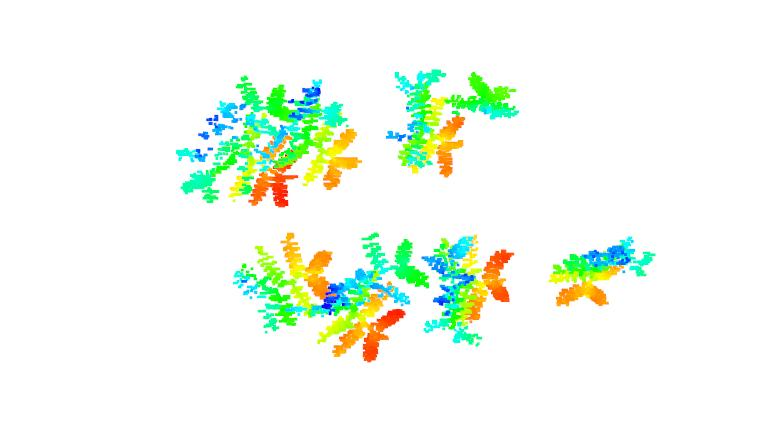chickpea: (166, 74, 297, 204), (323, 226, 429, 363), (421, 223, 513, 347), (277, 72, 368, 190), (233, 233, 334, 332), (387, 68, 465, 181), (546, 231, 661, 306), (464, 63, 529, 121)
